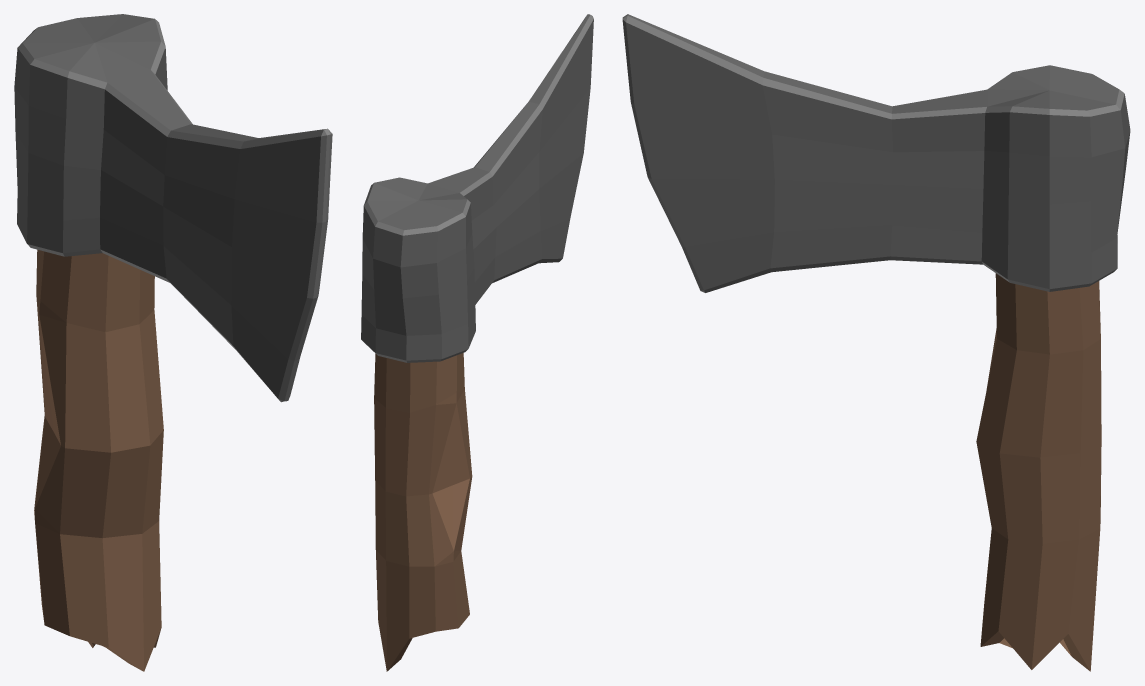
Rendered from Axe_01_Destroyed.fbx.
3 renders of one model, left to right at view 1: azimuth 30°, elevation 25°; view 2: azimuth 150°, elevation 25°; view 3: azimuth 270°, elevation 25°, orthographic. The views are drawn at different scales.
Parts seen in each view (by area): view 1: Axe_01_Destroyed; view 2: Axe_01_Destroyed; view 3: Axe_01_Destroyed.
Boxes of the visible parts, x1,y1,x2,y2 form: Axe_01_Destroyed: (14,14,332,671); Axe_01_Destroyed: (361,14,593,671); Axe_01_Destroyed: (622,14,1130,671).
Bounding box in the file's own units: 13.94 × 69.73 × 49.54.
